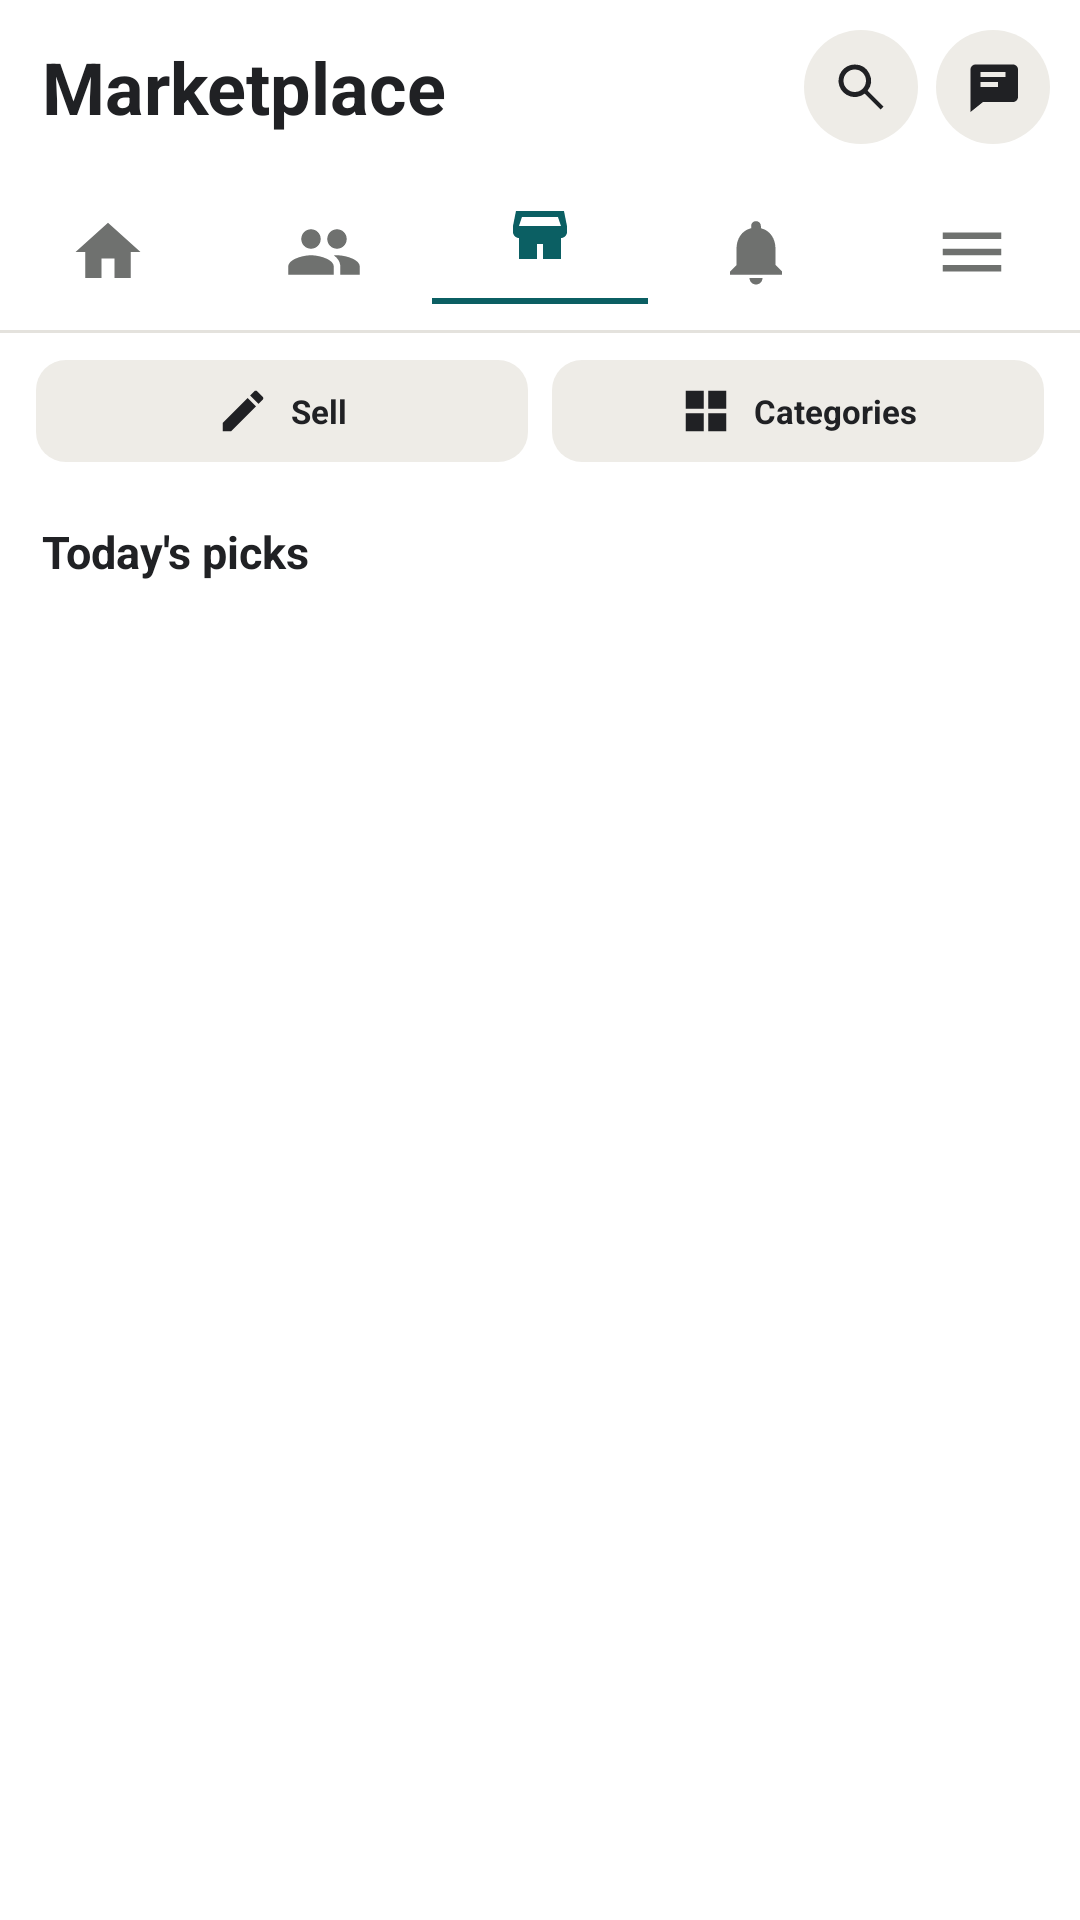

Named icons in this screenshot (1080 x 1920) and their centers, point (x, y):
Chats: point (994, 88)
edit: point (243, 411)
Friends: point (324, 252)
grid: point (706, 411)
Home: point (108, 250)
Menu: point (972, 252)
Notifications: point (756, 253)
Search: point (861, 87)
